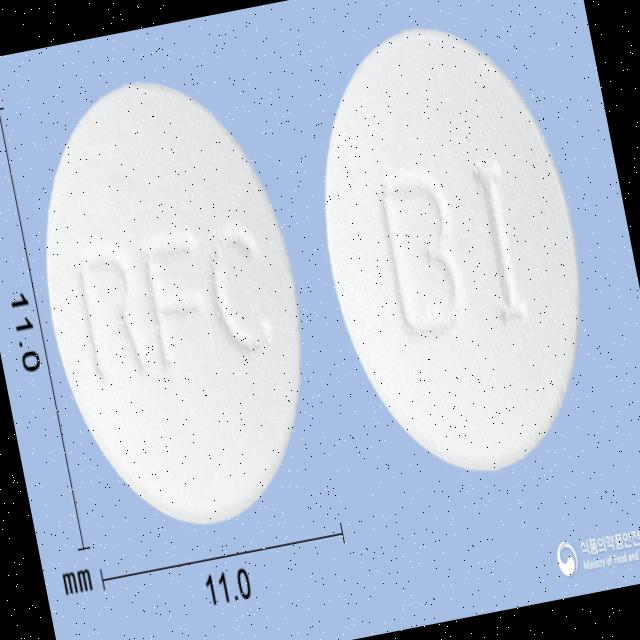Rofsin Tab: (290, 4, 616, 494), (11, 59, 337, 548)
